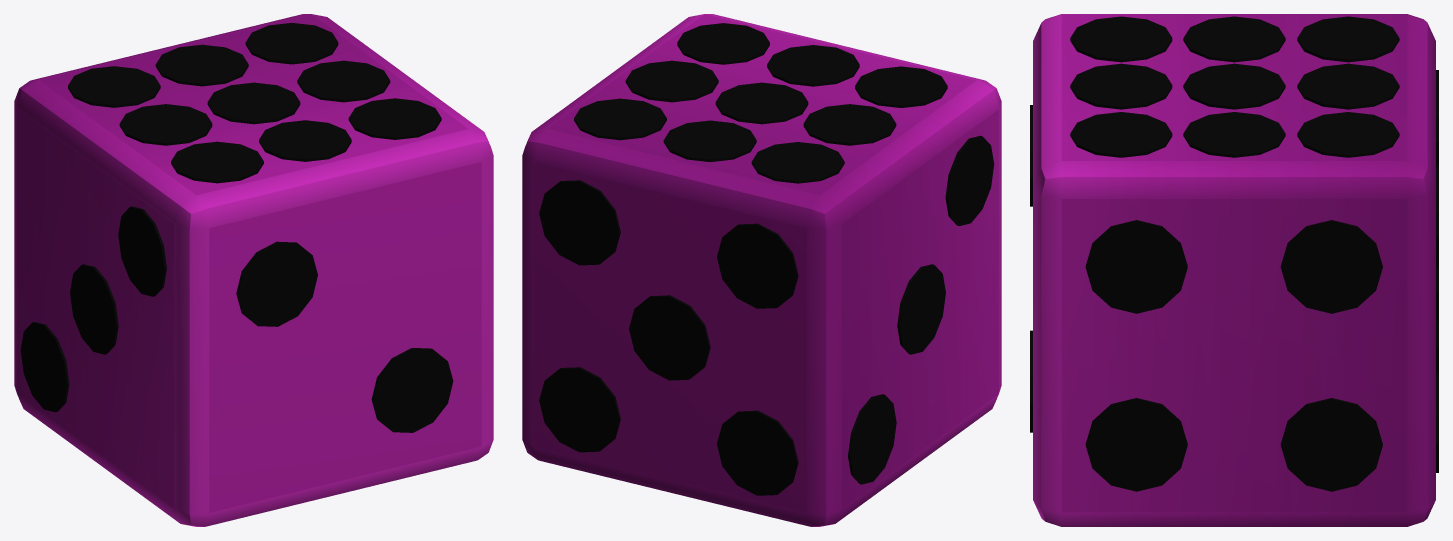
File: Dice_03.fbx
3 views of the same model, side by side, from view 1: azimuth 30°, elevation 25°; view 2: azimuth 150°, elevation 25°; view 3: azimuth 270°, elevation 25° (orthographic). The views are drawn at different scales.
Visible parts, largest first — view 1: pCube16; view 2: pCube16; view 3: pCube16.
Part boxes in pixels (box(x1,y1,x2,y2)): pCube16: box(14, 14, 493, 526); pCube16: box(522, 14, 1001, 526); pCube16: box(1030, 14, 1438, 526).
Bounding box in the file's own units: 2.03 × 2.03 × 2.03.
